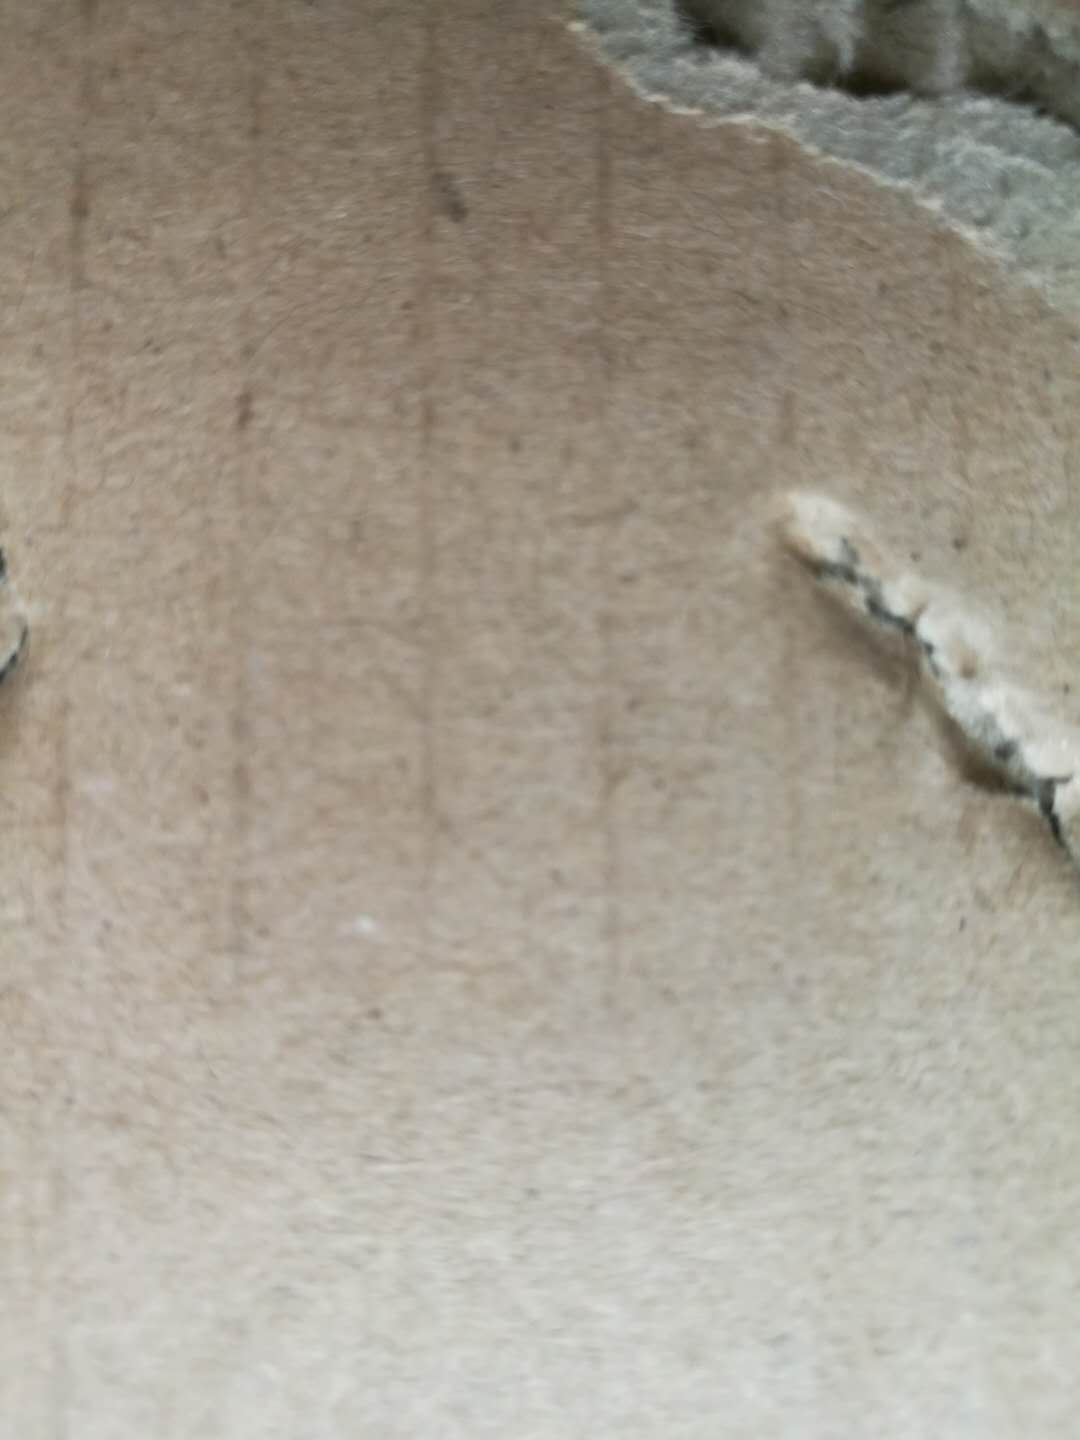defect: (537, 1, 1080, 361), (723, 438, 1080, 952), (2, 508, 62, 756)
